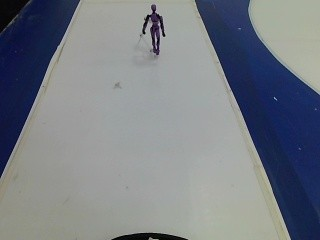pedestrian: (135, 1, 168, 56)
